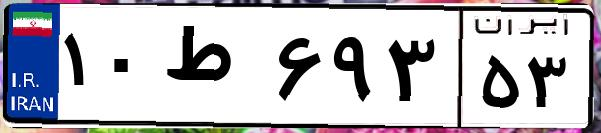0: (110, 28, 158, 98)
1: (57, 26, 110, 100)
3: (385, 28, 445, 110), (525, 38, 570, 115)
5: (475, 38, 525, 113)
6: (270, 28, 330, 110)
9: (330, 28, 385, 110)
ط: (158, 20, 270, 120)
